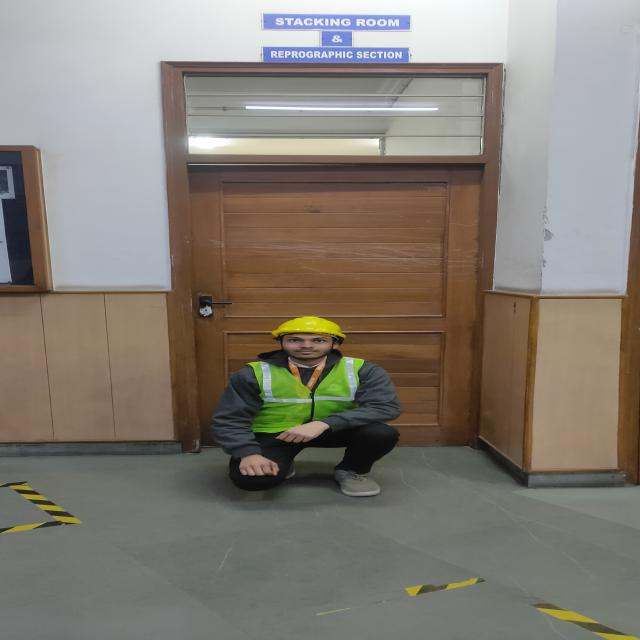safe: (210, 317, 400, 497)
